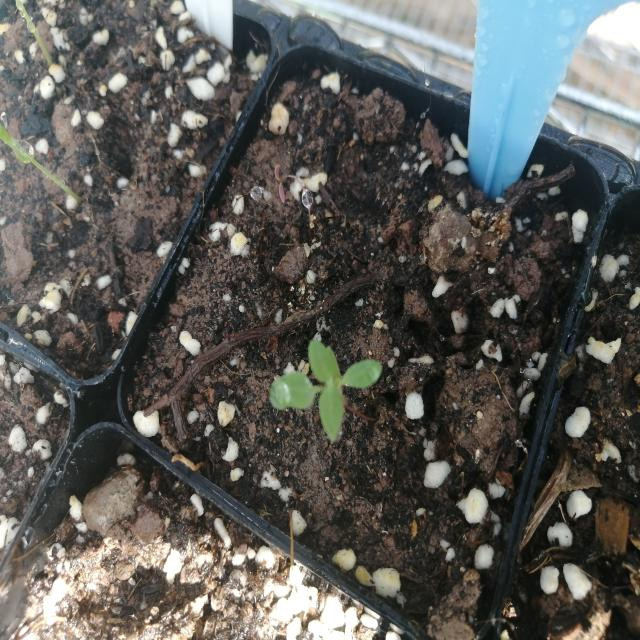goosefoots: (273, 332, 395, 439)
